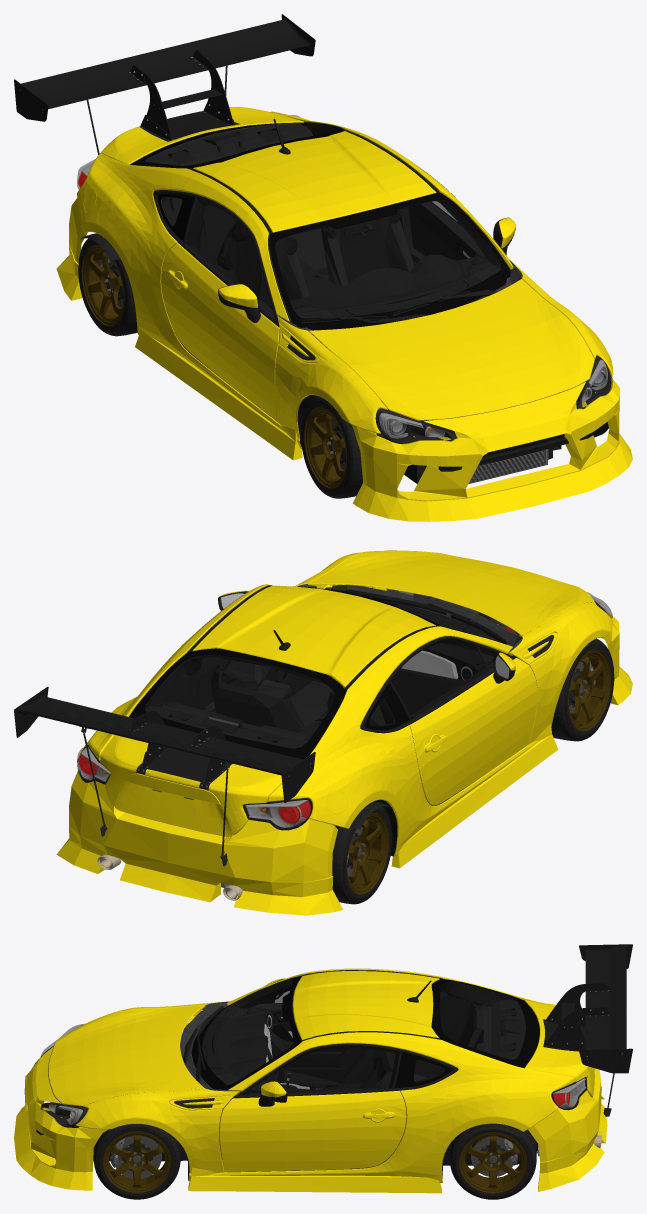
File: BRZ_URAS_Yellow8.glb
The picture shows the model from 3 angles, top to bottom: view 1: azimuth 30°, elevation 25°; view 2: azimuth 150°, elevation 25°; view 3: azimuth 270°, elevation 25°; orthographic projection. The views are drawn at different scales.
Visible parts, largest first — view 1: S1:Hood6_Mesh_022_M_Engine_Max_004_S1:M_CarPaint_Max1_0, S1:Interior5_Mesh_006_M_Interior_Max_S1:M_Interior_Max1_0, URAS_Object_10, S1:Glass6_Mesh_005_M_Opaque_PlasticRoughBlack_Max4_S1:M_Glas, S1:FendersR6_Mesh_019_M_CarPaint_Max_006_S1:M_CarPaint_Max1_, S1:Chassis7_Mesh_M_Opaque_PlasticSmoothBlack_Max_S1:M_CarPai, subaru:Wing6a_Carbon1_Geo_lodA_Wing6a_Carbon1_Geo_lodA_Subar, S1:DoorR4_Mesh_003_M_Opaque_PlasticSmoothBlack_Max1_S1:M_Car, S1:FenderFR6_Mesh_016_M_Opaque_PlasticRoughBlack_Max_008_S1:, S1:Glass6_Mesh_005_M_Opaque_PlasticRoughBlack_Max8_S1:Glass_, S1:DoorR_Glass4_Mesh_004_M_Glass_WindowRight_Low_S1:M_Glass_, URAS_Object_6 (+17 smaller); view 2: URAS_Object_8, S1:FendersR6_Mesh_019_M_CarPaint_Max_006_S1:M_CarPaint_Max1_, S1:Interior5_Mesh_006_M_Interior_Max_S1:M_Interior_Max1_0, S1:Chassis7_Mesh_M_Opaque_PlasticSmoothBlack_Max_S1:M_CarPai, S1:Glass6_Mesh_005_M_Opaque_PlasticRoughBlack_Max1_S1:M_Glas, S1:Hood6_Mesh_022_M_Engine_Max_004_S1:M_CarPaint_Max1_0, S1:DoorR4_Mesh_003_M_Opaque_PlasticSmoothBlack_Max1_S1:M_Car, subaru:Wing6a_Paint_Geo_lodA_Wing6a_Paint_Geo_lodA_Subaru_BR, subaru:Wing6a_Carbon1_Geo_lodA_Wing6a_Carbon1_Geo_lodA_Subar, S1:FenderFR6_Mesh_016_M_Opaque_PlasticRoughBlack_Max_008_S1:, S1:DoorR_Glass4_Mesh_004_M_Glass_WindowRight_Low_S1:M_Glass_, URAS_Object_6 (+16 smaller); view 3: S1:FendersR6_Mesh_019_M_CarPaint_Max_006_S1:M_CarPaint_Max1_, S1:Interior5_Mesh_006_M_Interior_Max_S1:M_Interior_Max1_0, S1:DoorL4_Mesh_001_M_Opaque_PlasticSmoothBlack_Max3_S1:M_Car, S1:Hood6_Mesh_022_M_Engine_Max_004_S1:M_CarPaint_Max1_0, S1:Chassis7_Mesh_M_Opaque_PlasticSmoothBlack_Max_S1:M_CarPai, subaru:Wing6a_Carbon1_Geo_lodA_Wing6a_Carbon1_Geo_lodA_Subar, S1:FenderFL6_Mesh_015_M_Opaque_PlasticRoughBlack_Max_007_S1:, URAS_Object_10, S1:Glass6_Mesh_005_M_Opaque_PlasticRoughBlack_Max4_S1:M_Glas, URAS_Object_8, S1:Glass6_Mesh_005_M_Opaque_PlasticRoughBlack_Max1_S1:M_Glas, S1:DoorL_Glass4_Mesh_002_M_Glass_WindowLeft_Low_S1:M_Glass_W (+20 smaller).
Boxes of the visible parts, <box> form: S1:Hood6_Mesh_022_M_Engine_Max_004_S1:M_CarPaint_Max1_0: <box>309,279,594,420</box>; S1:Interior5_Mesh_006_M_Interior_Max_S1:M_Interior_Max1_0: <box>145,123,501,415</box>; URAS_Object_10: <box>351,377,632,521</box>; S1:Glass6_Mesh_005_M_Opaque_PlasticRoughBlack_Max4_S1:M_Glas: <box>275,200,500,317</box>; S1:FendersR6_Mesh_019_M_CarPaint_Max_006_S1:M_CarPaint_Max1_: <box>77,111,513,425</box>; S1:Chassis7_Mesh_M_Opaque_PlasticSmoothBlack_Max_S1:M_CarPai: <box>193,131,436,232</box>; subaru:Wing6a_Carbon1_Geo_lodA_Wing6a_Carbon1_Geo_lodA_Subar: <box>14,14,315,140</box>; S1:DoorR4_Mesh_003_M_Opaque_PlasticSmoothBlack_Max1_S1:M_Car: <box>161,243,279,421</box>; S1:FenderFR6_Mesh_016_M_Opaque_PlasticRoughBlack_Max_008_S1:: <box>275,316,387,449</box>; S1:Glass6_Mesh_005_M_Opaque_PlasticRoughBlack_Max8_S1:Glass_: <box>269,192,510,330</box>; S1:DoorR_Glass4_Mesh_004_M_Glass_WindowRight_Low_S1:M_Glass_: <box>185,199,274,317</box>; URAS_Object_6: <box>135,333,302,460</box>; URAS_Object_8: <box>56,769,343,915</box>; S1:FendersR6_Mesh_019_M_CarPaint_Max_006_S1:M_CarPaint_Max1_: <box>77,584,529,856</box>; S1:Interior5_Mesh_006_M_Interior_Max_S1:M_Interior_Max1_0: <box>145,596,522,805</box>; S1:Chassis7_Mesh_M_Opaque_PlasticSmoothBlack_Max_S1:M_CarPai: <box>192,585,435,688</box>; S1:Glass6_Mesh_005_M_Opaque_PlasticRoughBlack_Max1_S1:M_Glas: <box>145,655,343,747</box>; S1:Hood6_Mesh_022_M_Engine_Max_004_S1:M_CarPaint_Max1_0: <box>309,550,594,635</box>; S1:DoorR4_Mesh_003_M_Opaque_PlasticSmoothBlack_Max1_S1:M_Car: <box>409,658,537,805</box>; subaru:Wing6a_Paint_Geo_lodA_Wing6a_Paint_Geo_lodA_Subaru_BR: <box>100,735,282,836</box>; subaru:Wing6a_Carbon1_Geo_lodA_Wing6a_Carbon1_Geo_lodA_Subar: <box>14,686,315,802</box>; S1:FenderFR6_Mesh_016_M_Opaque_PlasticRoughBlack_Max_008_S1:: <box>508,602,613,747</box>; S1:DoorR_Glass4_Mesh_004_M_Glass_WindowRight_Low_S1:M_Glass_: <box>391,640,495,718</box>; URAS_Object_6: <box>391,723,558,868</box>; S1:FendersR6_Mesh_019_M_CarPaint_Max_006_S1:M_CarPaint_Max1_: <box>224,968,575,1182</box>; S1:Interior5_Mesh_006_M_Interior_Max_S1:M_Interior_Max1_0: <box>202,979,525,1172</box>; S1:DoorL4_Mesh_001_M_Opaque_PlasticSmoothBlack_Max3_S1:M_Car: <box>219,1090,406,1172</box>; S1:Hood6_Mesh_022_M_Engine_Max_004_S1:M_CarPaint_Max1_0: <box>48,1005,204,1106</box>; S1:Chassis7_Mesh_M_Opaque_PlasticSmoothBlack_Max_S1:M_CarPai: <box>293,971,439,1039</box>; subaru:Wing6a_Carbon1_Geo_lodA_Wing6a_Carbon1_Geo_lodA_Subar: <box>544,944,632,1073</box>; S1:FenderFL6_Mesh_015_M_Opaque_PlasticRoughBlack_Max_007_S1:: <box>76,1088,239,1180</box>; URAS_Object_10: <box>14,1046,108,1190</box>; S1:Glass6_Mesh_005_M_Opaque_PlasticRoughBlack_Max4_S1:M_Glas: <box>202,979,293,1084</box>; URAS_Object_8: <box>528,1068,607,1191</box>; S1:Glass6_Mesh_005_M_Opaque_PlasticRoughBlack_Max1_S1:M_Glas: <box>432,982,525,1059</box>; S1:DoorL_Glass4_Mesh_002_M_Glass_WindowLeft_Low_S1:M_Glass_W: <box>244,1046,399,1094</box>.
Bounding box in the file's own units: 1.86 × 1.28 × 4.24.
28 materials, 11 textured.
